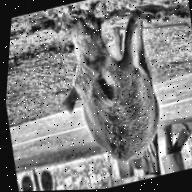boar: (25, 0, 184, 184)
